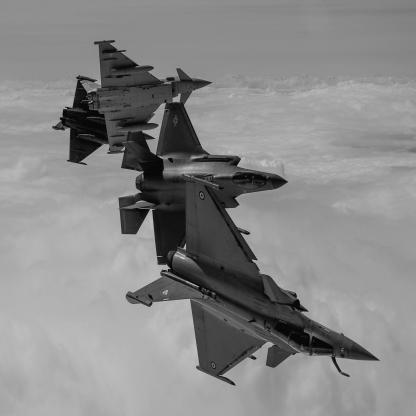EF2000: (81, 41, 214, 155)
F35: (118, 102, 289, 266)
Rafale: (126, 174, 382, 387), (53, 76, 157, 167)
